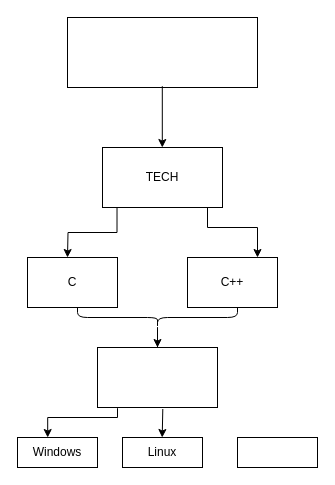
Image size: 335x485. Some labels were removed from this diagram. The shapes that lost their labels are listed below. From the top down, each one's centre as x and y in pixels, then its label:
point (162, 52): DEBUGGER FROM SCRATCH
point (157, 377): PLATFORMS
